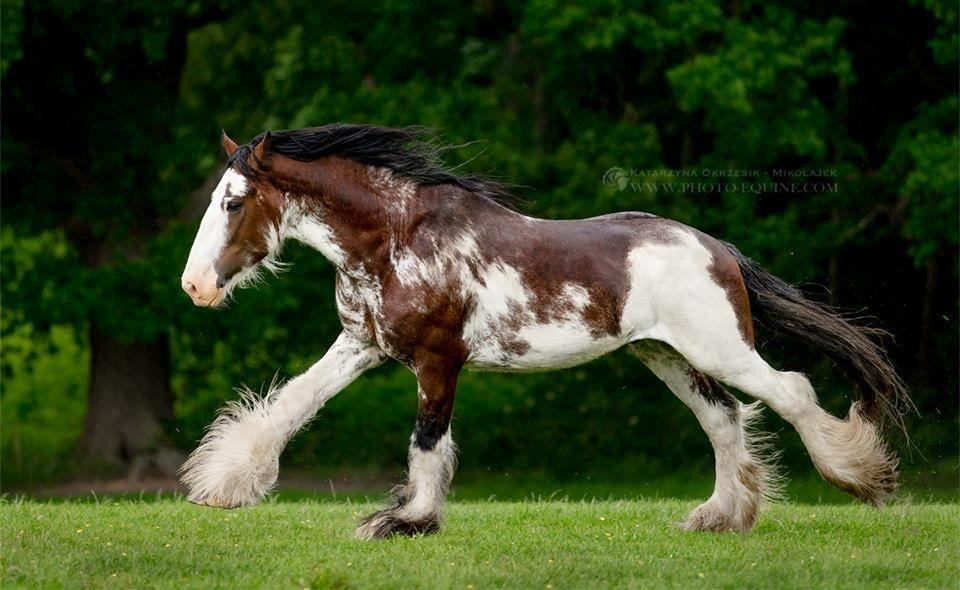horse: (176, 120, 921, 541)
